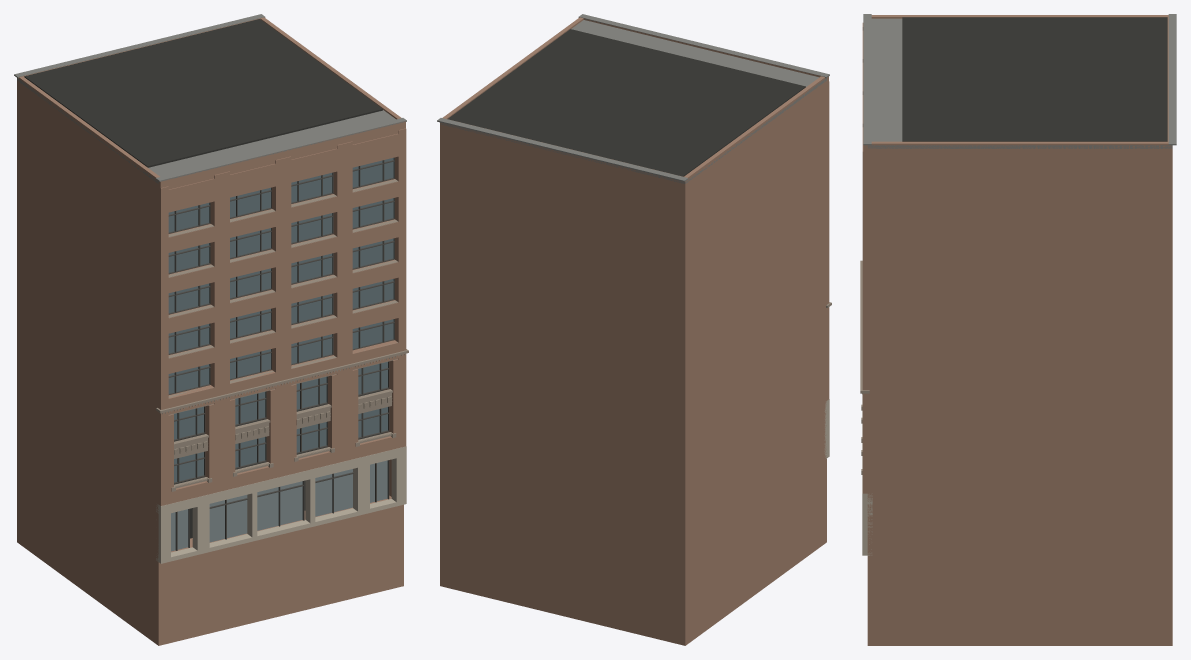
Rendered from chapin_gore.glb.
3 renders of one model, left to right at view 1: azimuth 30°, elevation 25°; view 2: azimuth 150°, elevation 25°; view 3: azimuth 270°, elevation 25°, orthographic. The views are drawn at different scales.
Parts seen in each view (by area): view 1: Warm brick piers and spandrels, Opaque interior backing, Separate recessed upper panes, Dark sash and storefront metal, Ground stone surrounds, Terracotta frames and relief, Clear recessed retail and doors, Flat roof and coping; view 2: Warm brick piers and spandrels, Opaque interior backing, Flat roof and coping; view 3: Warm brick piers and spandrels, Opaque interior backing, Flat roof and coping, Ground stone surrounds, Terracotta frames and relief.
Part boxes in pixels (x1,y1,x2,y2): Warm brick piers and spandrels: (17, 17, 406, 645); Opaque interior backing: (24, 19, 382, 538); Separate recessed upper panes: (168, 158, 393, 482); Dark sash and storefront metal: (168, 157, 394, 550); Ground stone surrounds: (156, 446, 406, 563); Terracotta frames and relief: (156, 179, 408, 491); Clear recessed retail and doors: (171, 460, 387, 551); Flat roof and coping: (14, 14, 406, 183); Warm brick piers and spandrels: (440, 17, 829, 645); Opaque interior backing: (447, 29, 805, 176); Flat roof and coping: (437, 14, 829, 183); Warm brick piers and spandrels: (862, 15, 1172, 645); Opaque interior backing: (902, 17, 1167, 141); Flat roof and coping: (863, 14, 1176, 148); Ground stone surrounds: (862, 394, 872, 555); Terracotta frames and relief: (860, 260, 869, 474).
Size of the model in its own units: 24.8 by 44.53 by 25.4.
